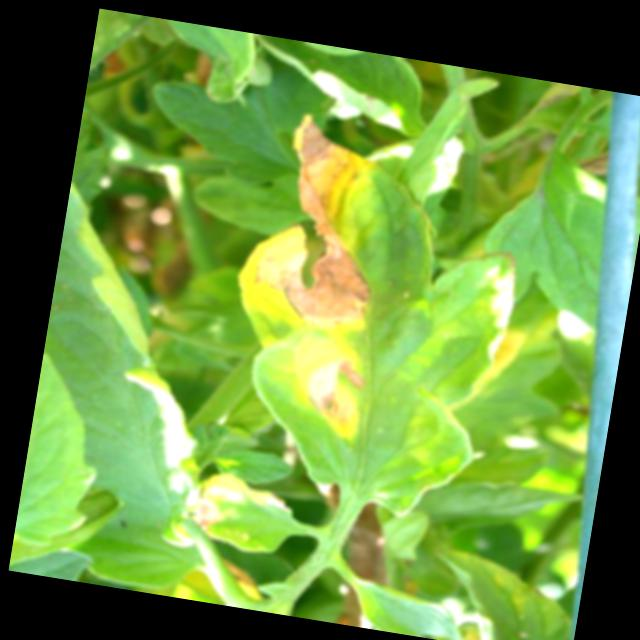Early_blight: (233, 107, 406, 343), (191, 467, 297, 546), (298, 351, 375, 444)
